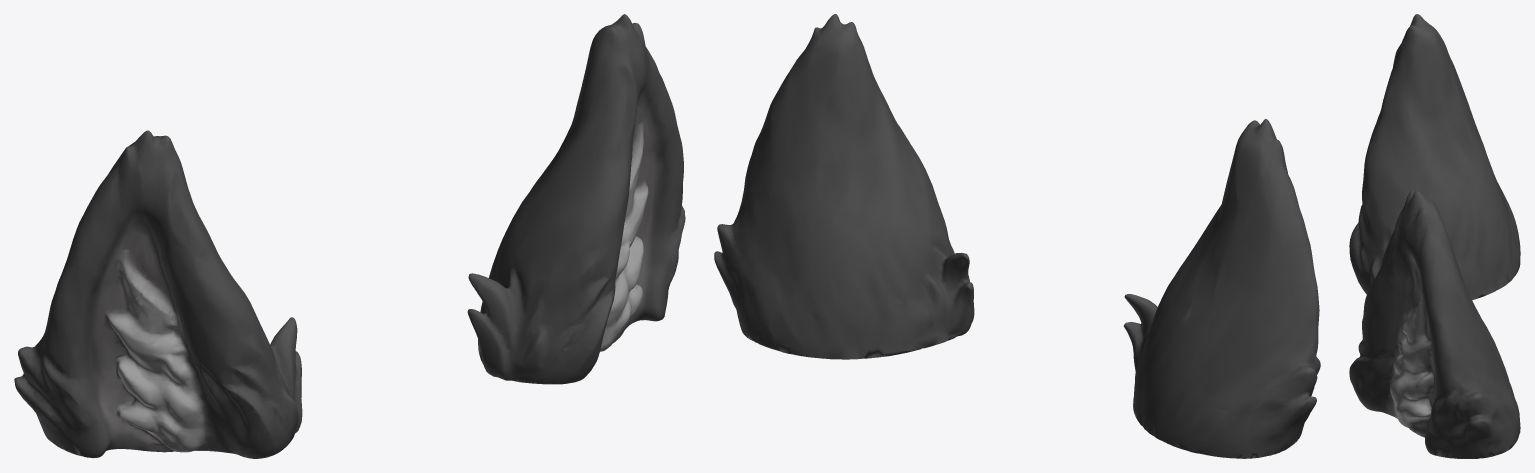
Rendered from Prop - Ears.glb.
3 views of the same model, side by side, from view 1: azimuth 30°, elevation 25°; view 2: azimuth 150°, elevation 25°; view 3: azimuth 270°, elevation 25° (orthographic). The views are drawn at different scales.
Parts seen in each view (by area): view 1: ears; view 2: ears; view 3: ears.
Part boxes in pixels (x1,y1,x2,y2): ears: (14, 14, 685, 458); ears: (714, 14, 1320, 458); ears: (1349, 14, 1520, 458).
Size of the model in its own units: 1.2 by 0.5577 by 0.3525.
1 material, 1 textured.
